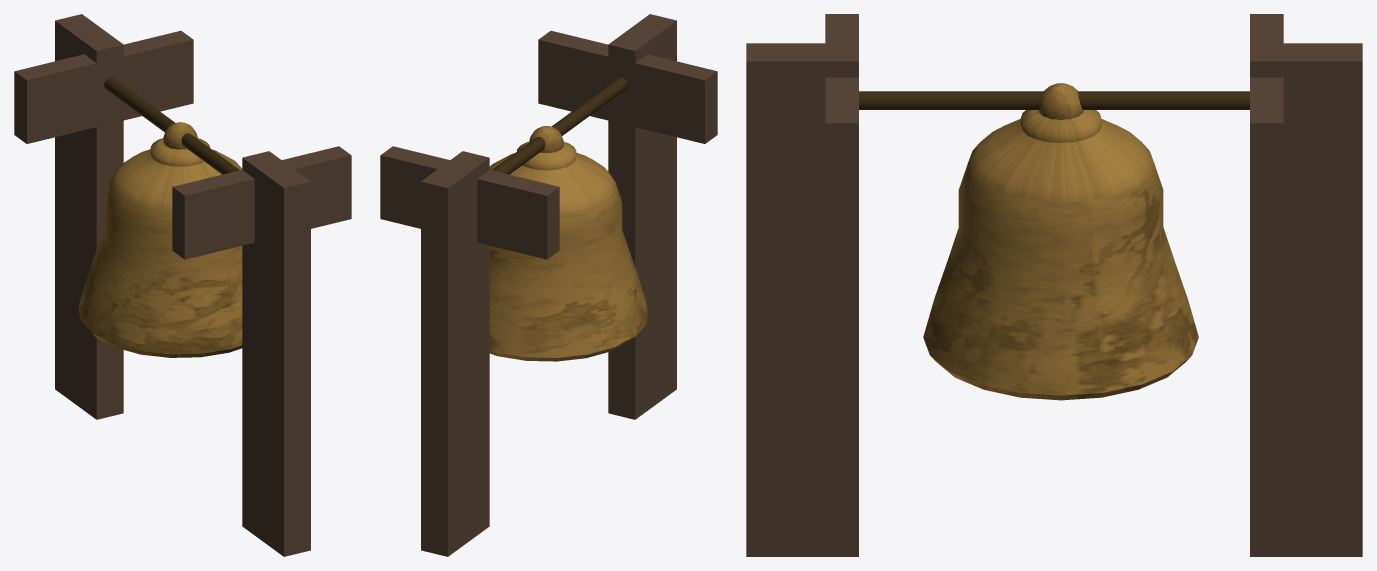
The model's file is Bell.fbx.
The picture shows the model from 3 angles, left to right: view 1: azimuth 30°, elevation 25°; view 2: azimuth 150°, elevation 25°; view 3: azimuth 270°, elevation 25°; orthographic projection. The views are drawn at different scales.
Visible parts, largest first — view 1: BELL:pCube14; view 2: BELL:pCube14; view 3: BELL:pCube14.
Part boxes in pixels (bbox=[...]): BELL:pCube14: bbox=[14, 14, 351, 556]; BELL:pCube14: bbox=[380, 14, 717, 556]; BELL:pCube14: bbox=[746, 14, 1362, 556].
Bounding box in the file's own units: 2.96 × 5.87 × 6.61.
1 material, 1 textured.
